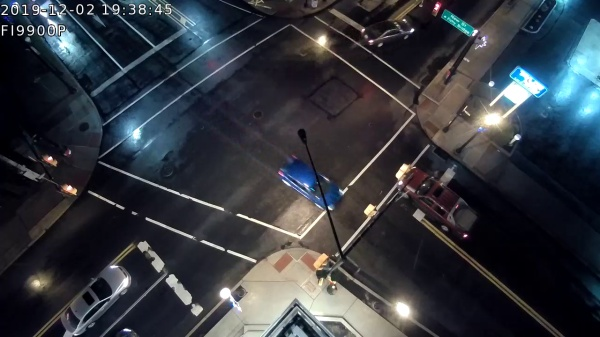car: (399, 168, 479, 238), (60, 264, 132, 333), (278, 156, 342, 212), (362, 17, 414, 47)
